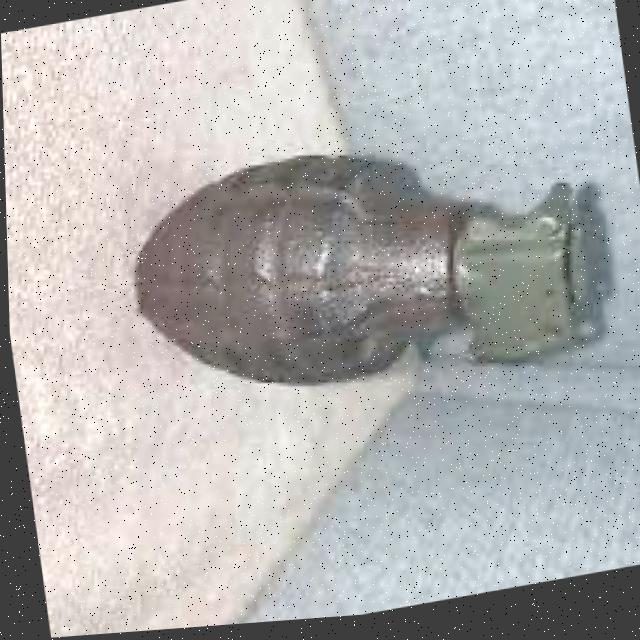grenade: (89, 72, 640, 477)
